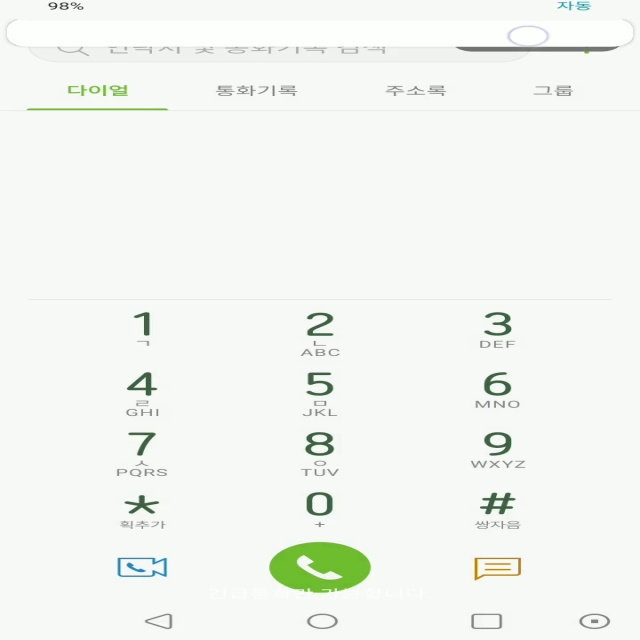Cursor: (506, 24, 551, 47)
